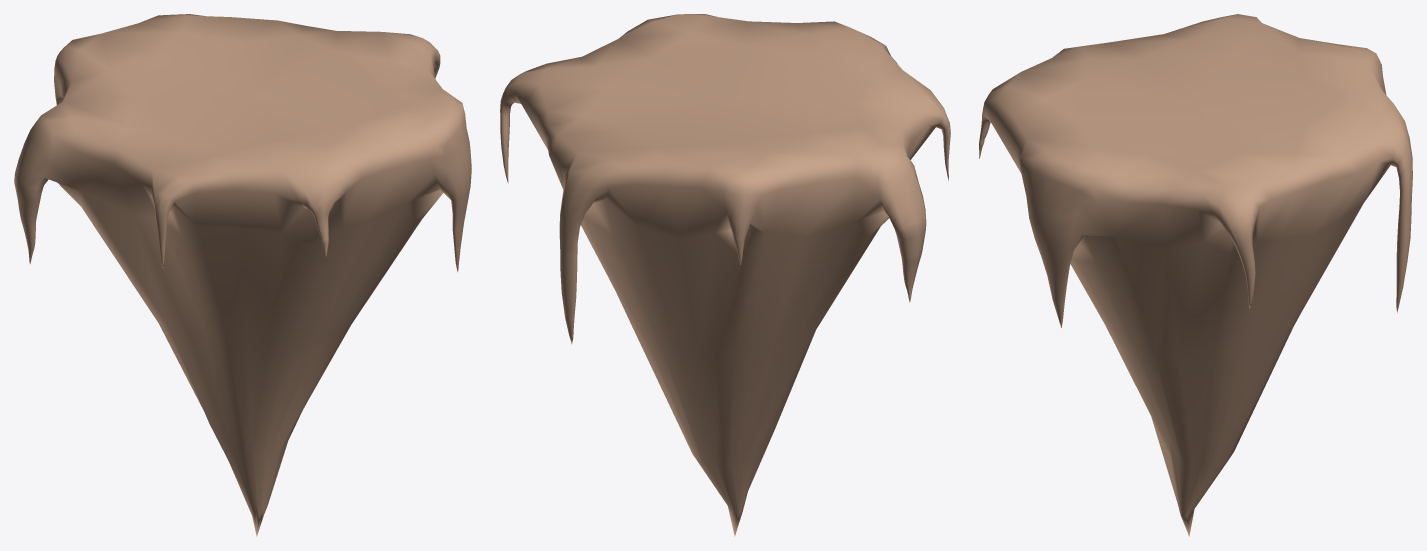
The model's file is ice_iceConePlatform_01_mesh.fbx.
3 views of the same model, side by side, from view 1: azimuth 30°, elevation 25°; view 2: azimuth 150°, elevation 25°; view 3: azimuth 270°, elevation 25° (orthographic).
Parts seen in each view (by area): view 1: pCone2; view 2: pCone2; view 3: pCone2.
Boxes of the visible parts, x1=… form: pCone2: x1=14, y1=14, x2=471, y2=536; pCone2: x1=500, y1=14, x2=950, y2=536; pCone2: x1=979, y1=14, x2=1412, y2=536.
Bounding box in the file's own units: 226 × 234 × 207.
